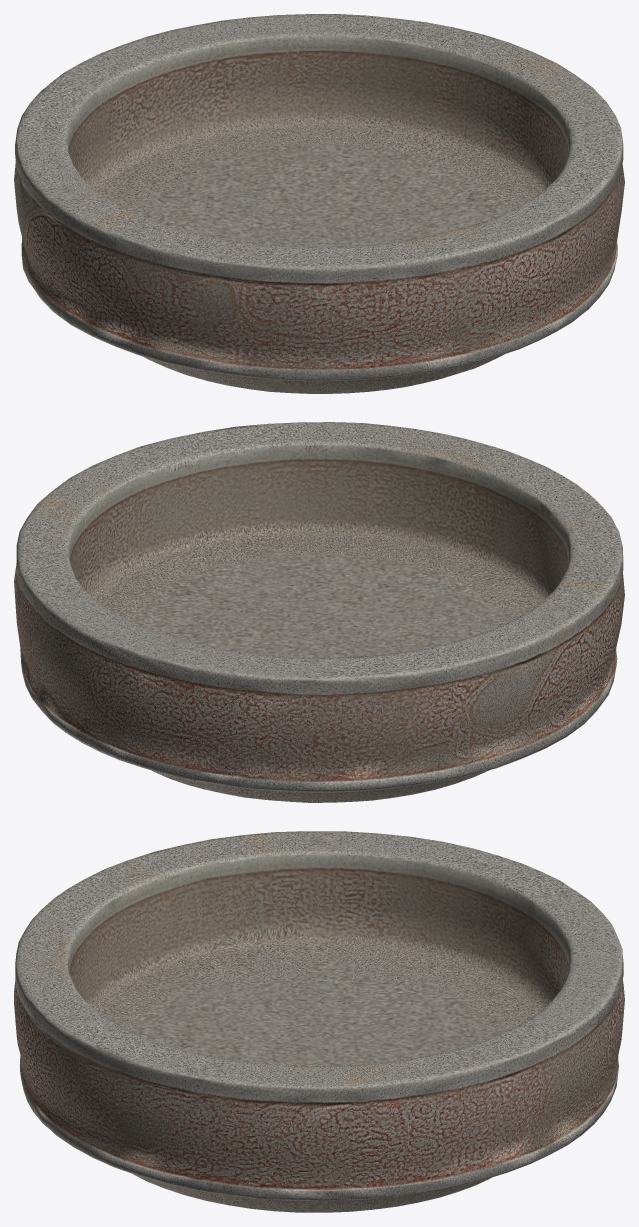
File: tripo_convert_acbf957f-20fa-4700-bfa7-4026e026f3e6.fbx
3 views of the same model, one above another, from view 1: azimuth 30°, elevation 25°; view 2: azimuth 150°, elevation 25°; view 3: azimuth 270°, elevation 25° (orthographic).
Visible parts, largest first — view 1: tripo_node_acbf957f; view 2: tripo_node_acbf957f; view 3: tripo_node_acbf957f.
Boxes of the visible parts, <box> form: tripo_node_acbf957f: <box>14,14,624,393</box>; tripo_node_acbf957f: <box>14,422,624,802</box>; tripo_node_acbf957f: <box>14,831,624,1212</box>.
Size of the model in its own units: 0.998 by 0.2871 by 0.998.
Materials: 1 (1 with a texture image).
